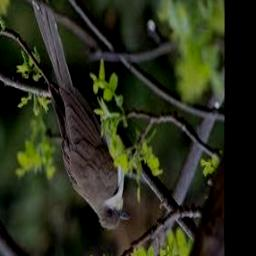Cuckoo: (31, 0, 131, 231)
